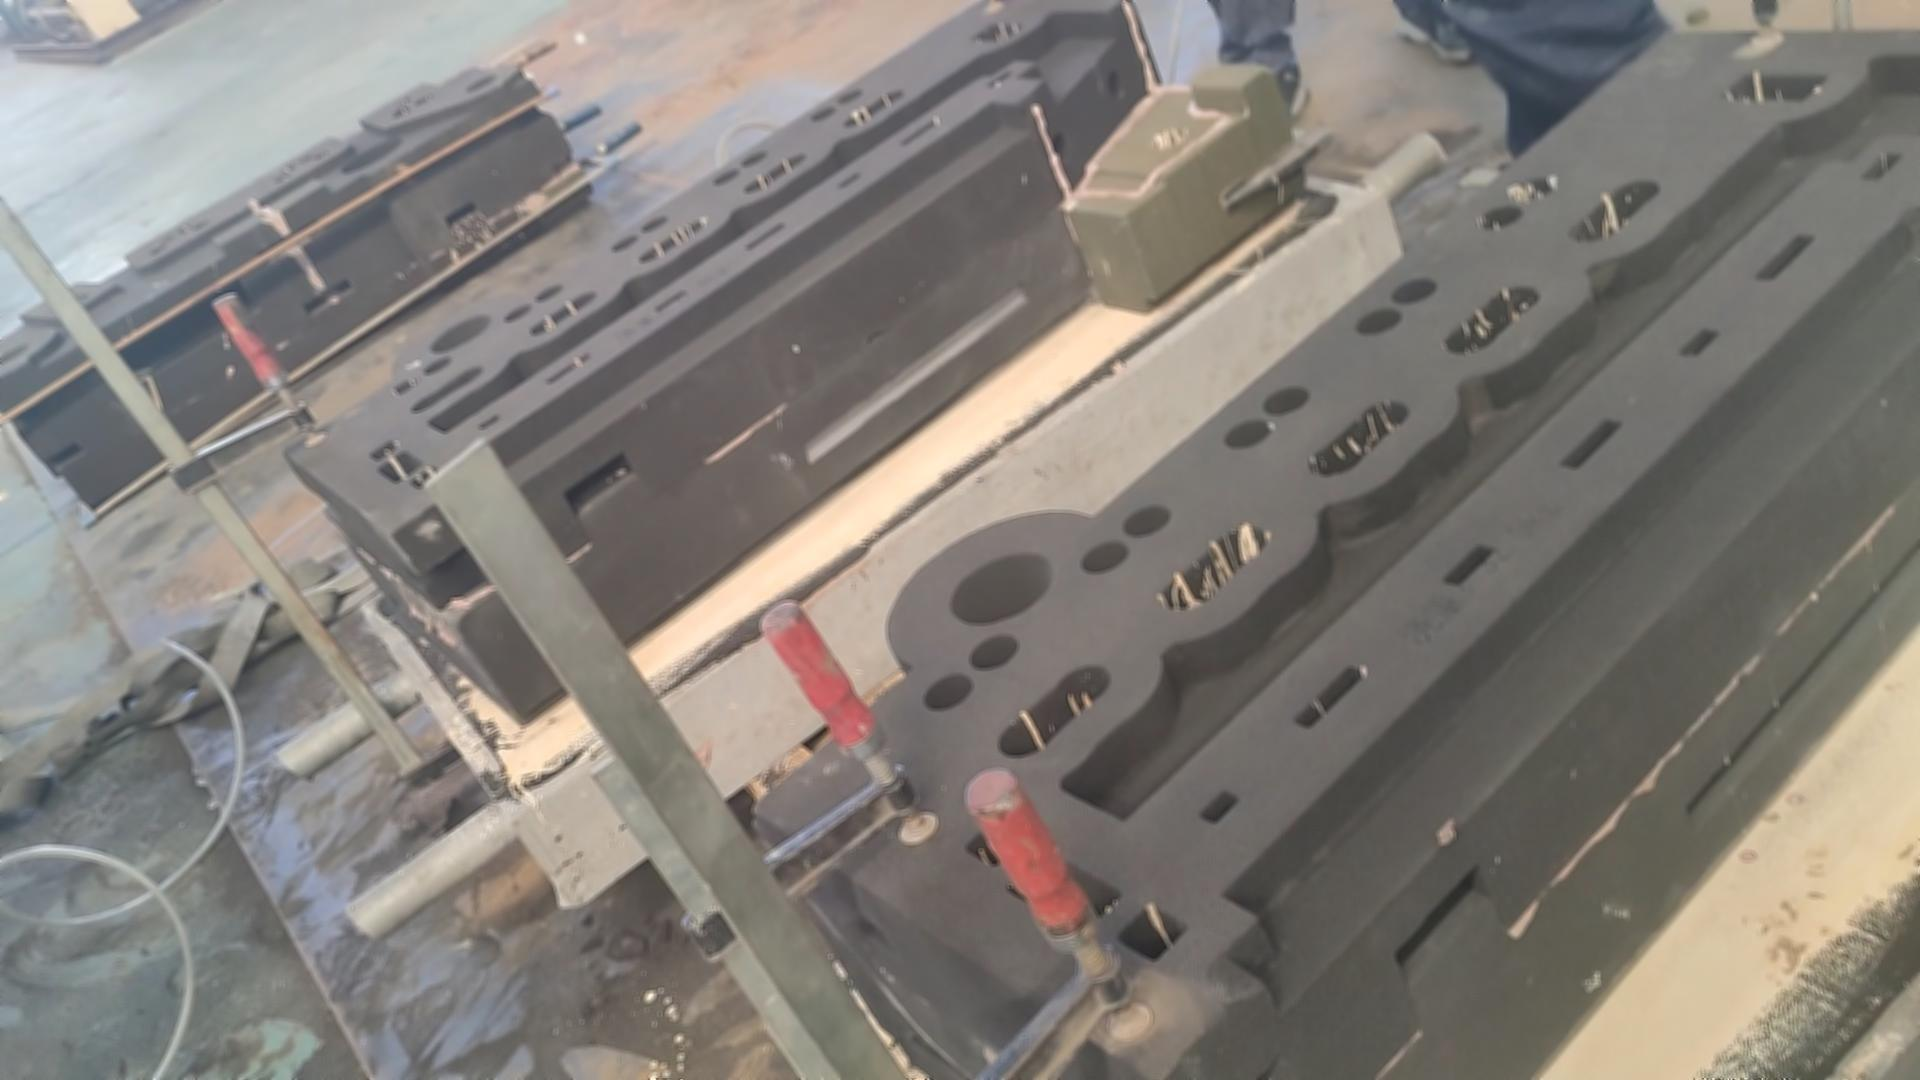pouring hole: (951, 553, 1052, 625), (429, 315, 489, 352), (464, 73, 501, 94), (1, 345, 28, 368)
